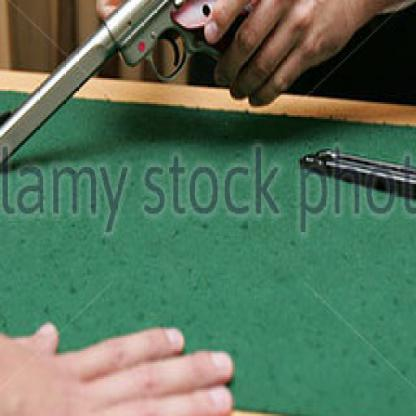gun: (0, 0, 333, 193)
